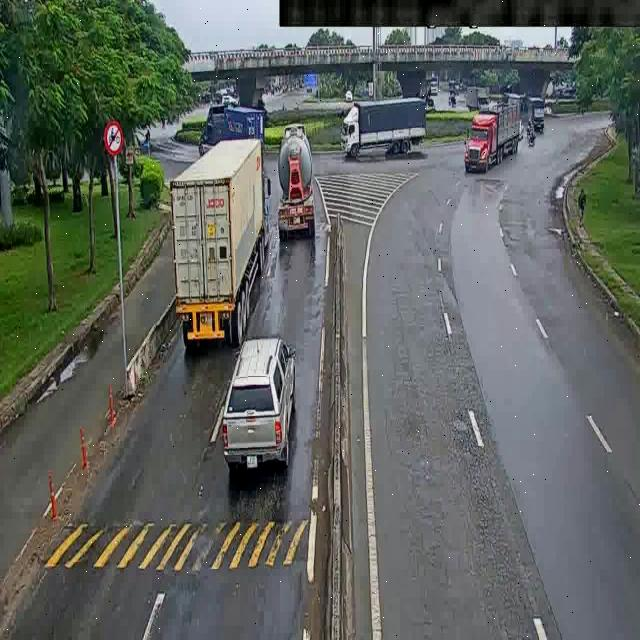car: (215, 345, 292, 478)
motorbike: (526, 120, 547, 159)
truck: (163, 135, 264, 354), (273, 122, 327, 254), (337, 96, 430, 163), (464, 94, 528, 179), (188, 106, 270, 165)
